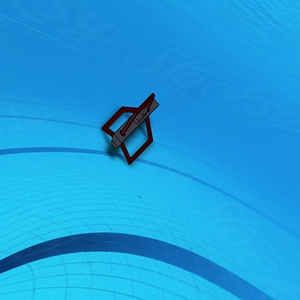submarine: (104, 91, 163, 160)
